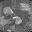people: (0, 15, 11, 30), (3, 6, 15, 16), (13, 16, 22, 25)
